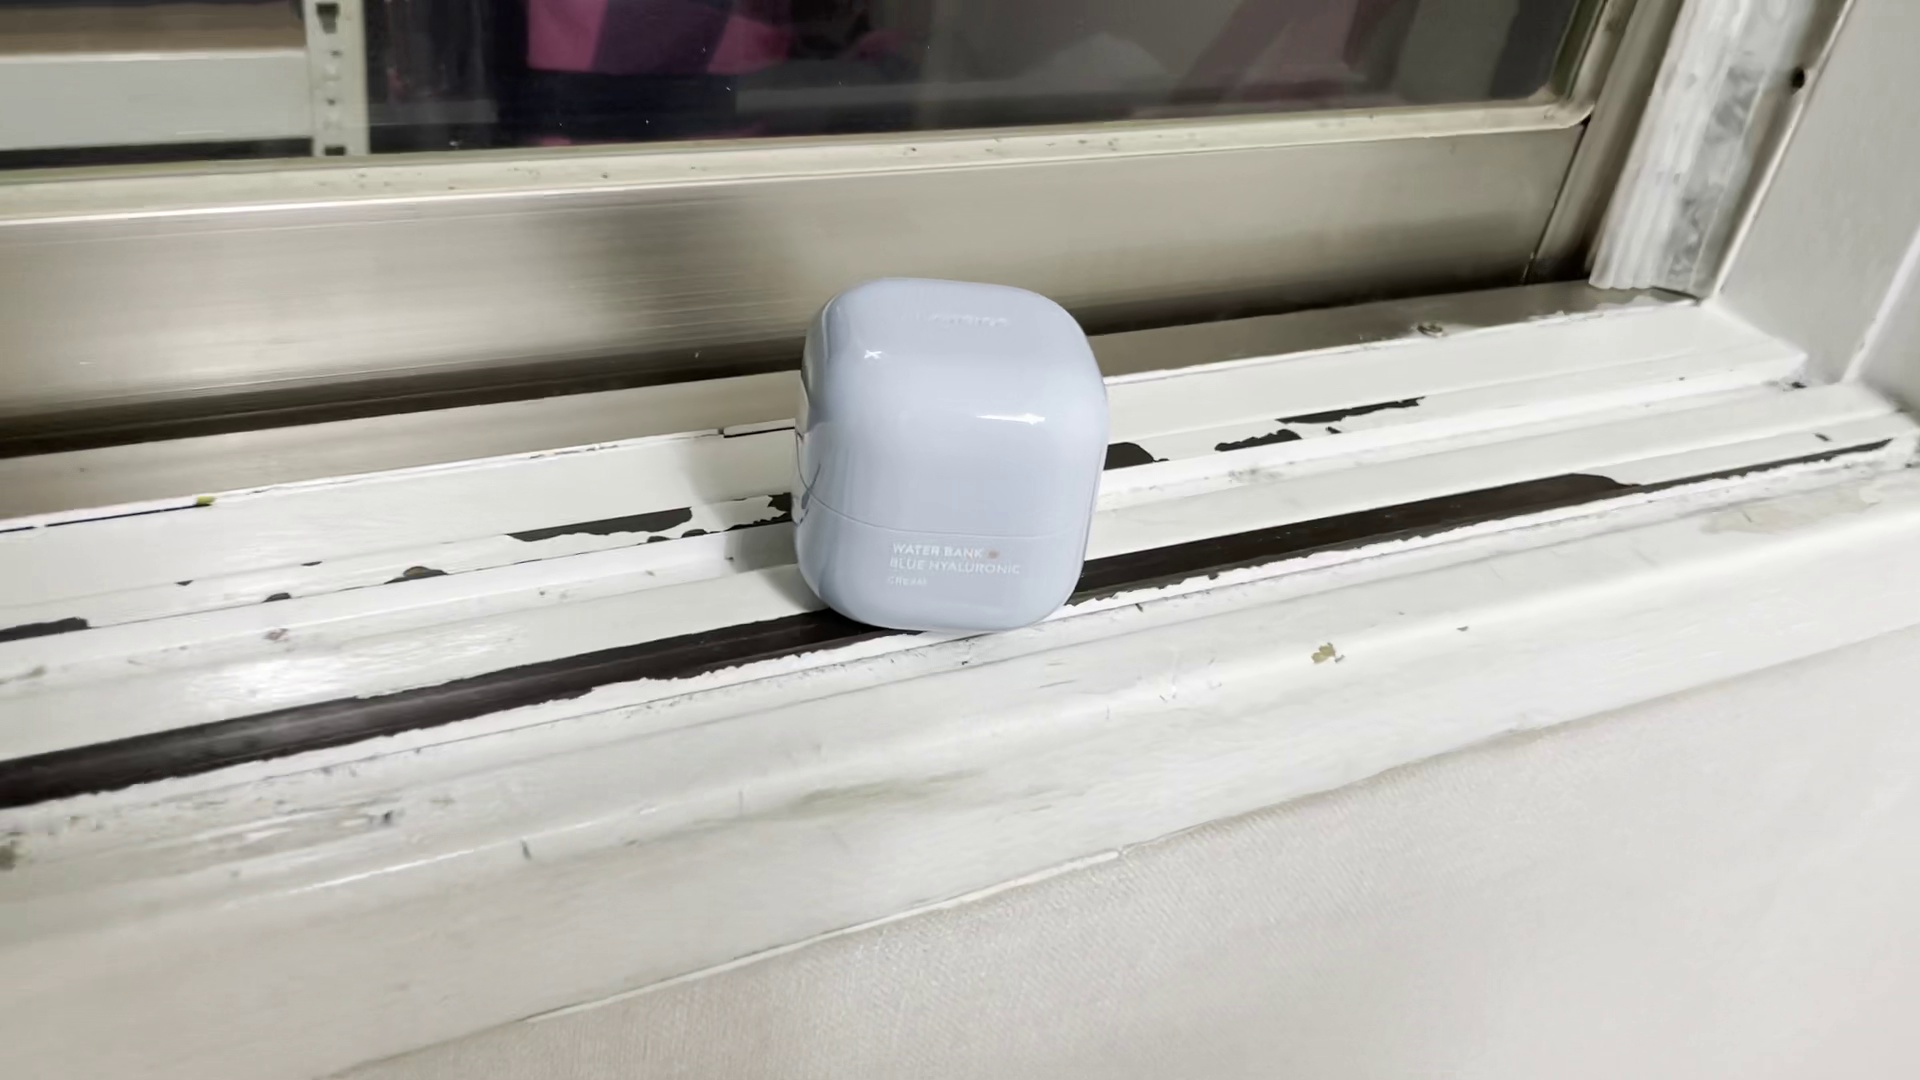cream: (796, 272, 1105, 625)
